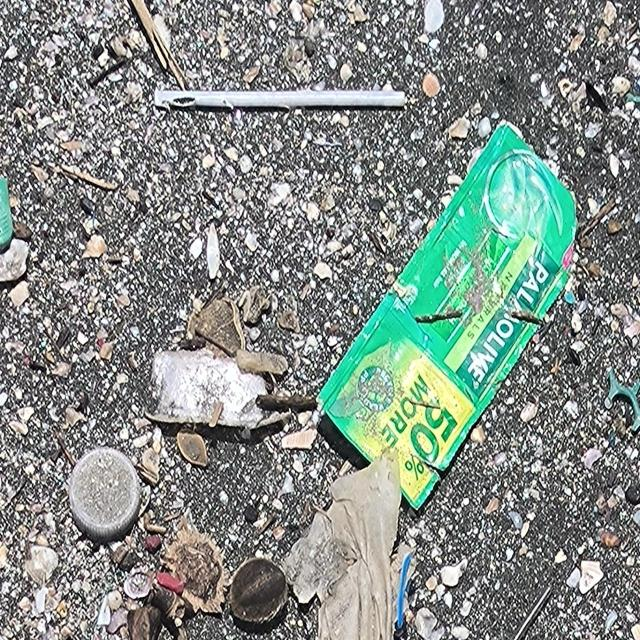litter: (316, 122, 580, 514), (67, 446, 143, 542), (153, 88, 407, 110)
